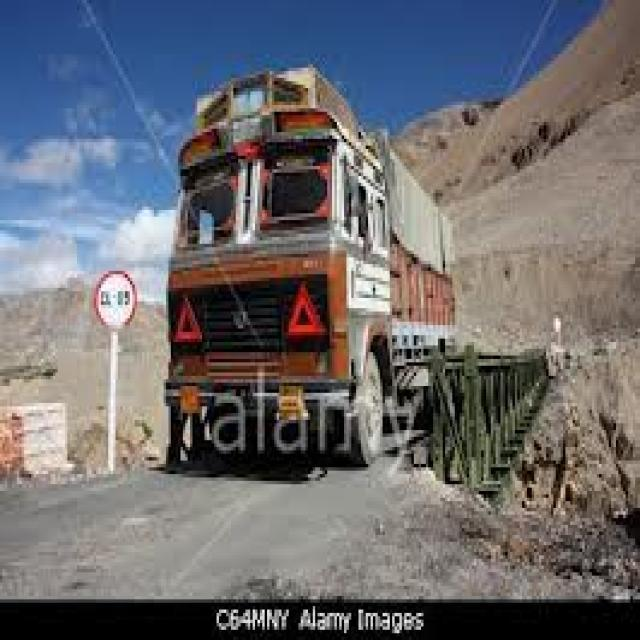truck_front: (156, 58, 463, 468)
